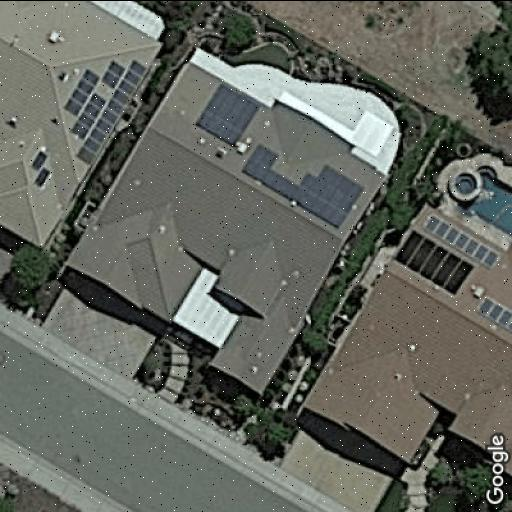solar-panel: (239, 144, 362, 228), (392, 212, 498, 296), (66, 57, 146, 167), (193, 80, 267, 148), (473, 292, 512, 334), (26, 146, 54, 190)
